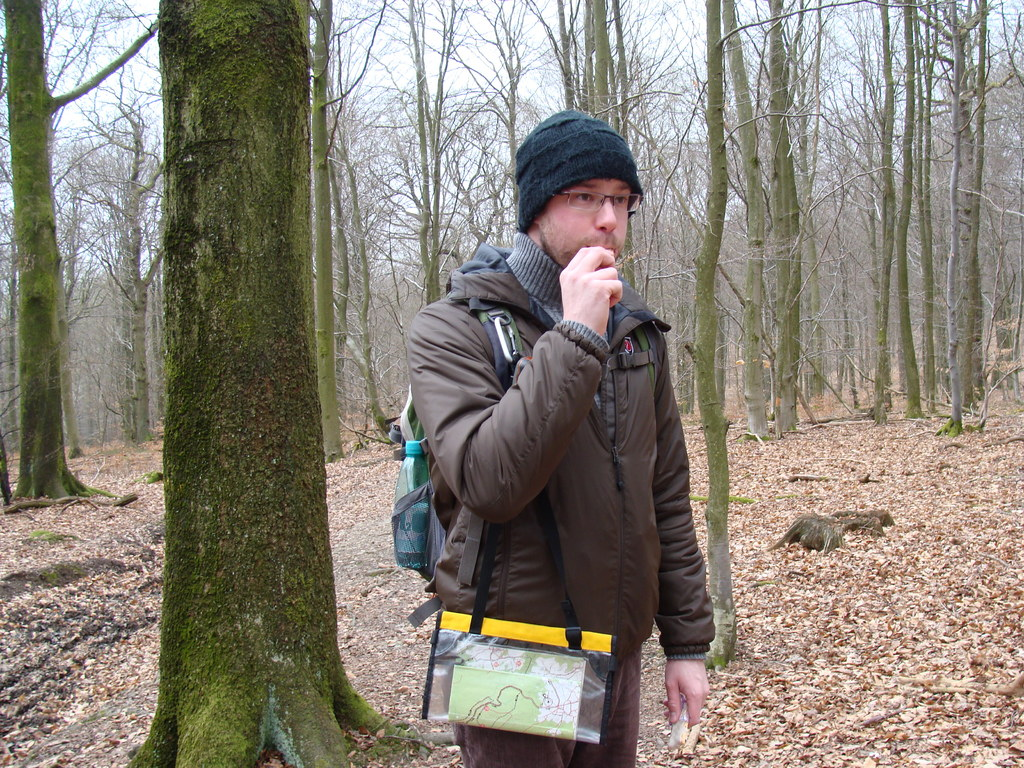Person: (406, 109, 715, 767)
